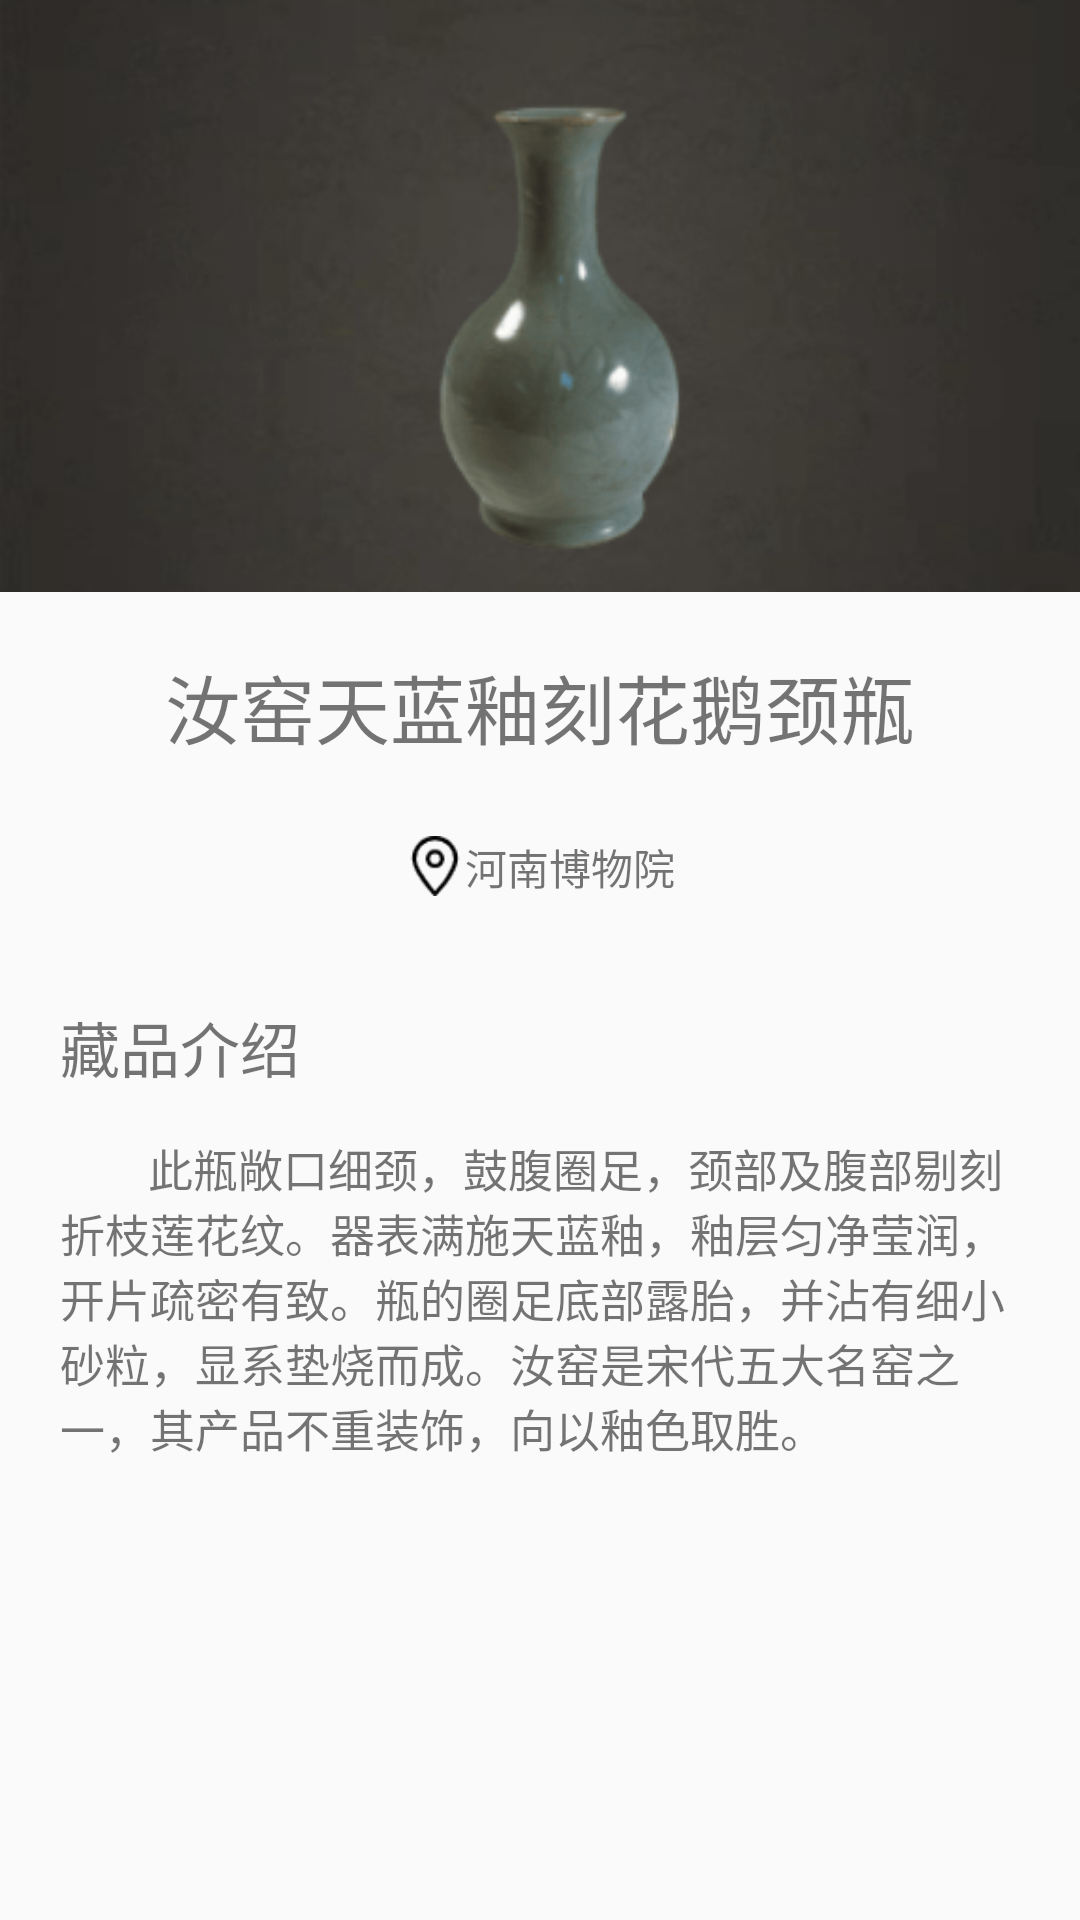

Icons on this 1080px x 1920px Android screen, each with its box as (left=x1, top=y1, right=x2, bottom=y2):
location: (left=411, top=836, right=459, bottom=896)
